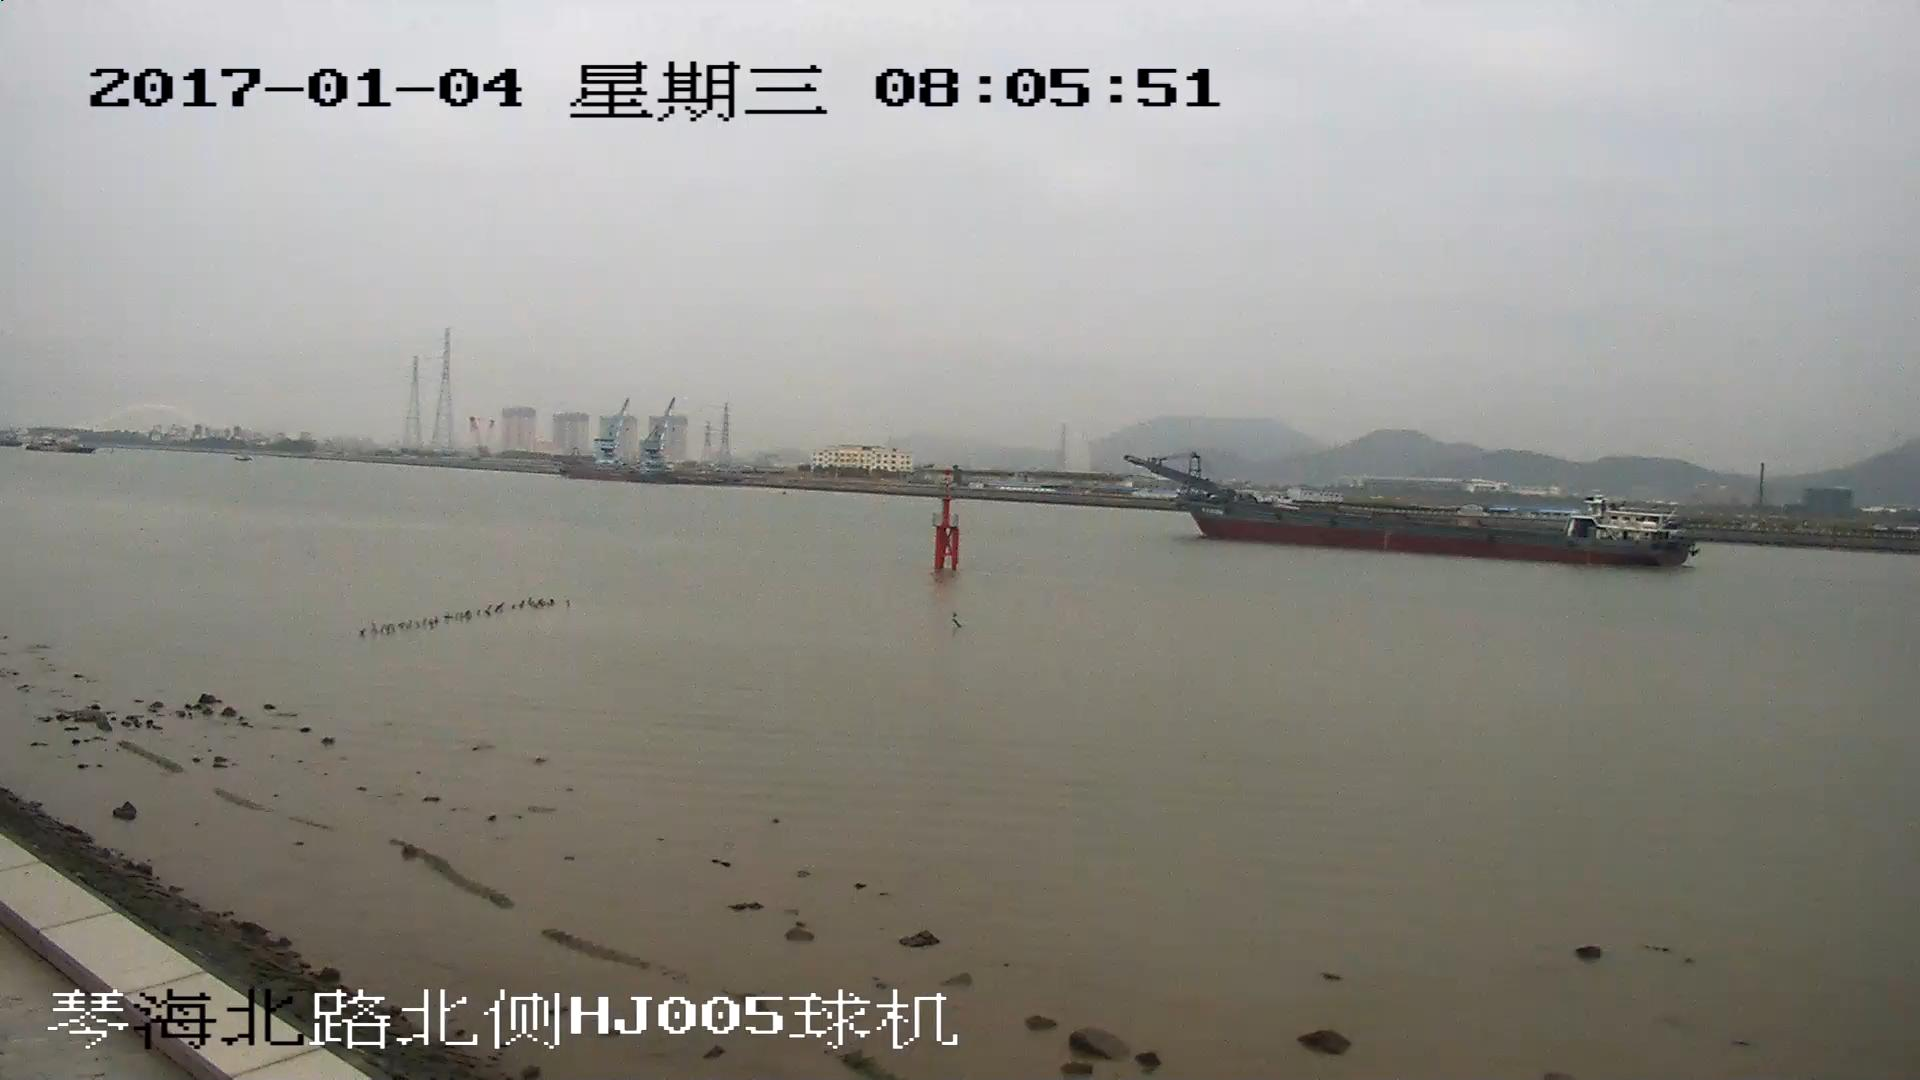bulk cargo carrier: (1127, 455, 1694, 567)
